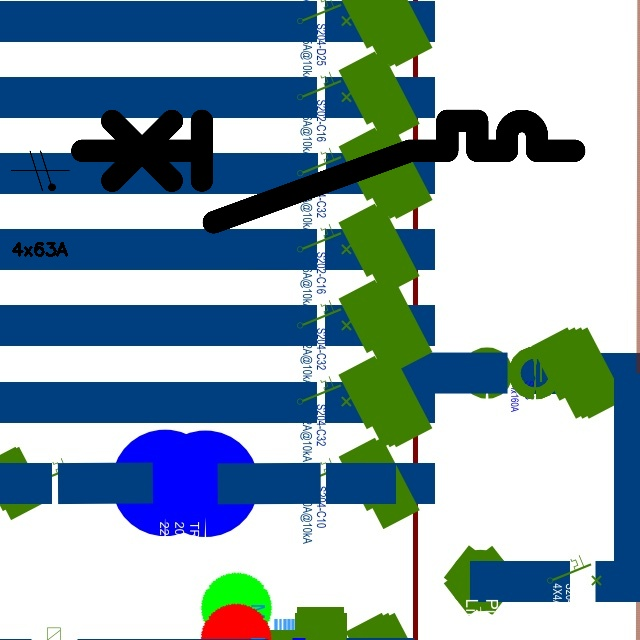interruptor_termomagnetico: (69, 108, 587, 234)
